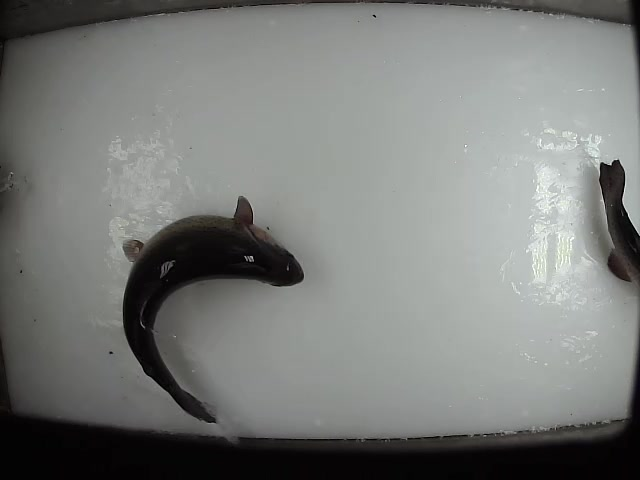fish: (117, 195, 307, 449), (593, 158, 640, 284)
